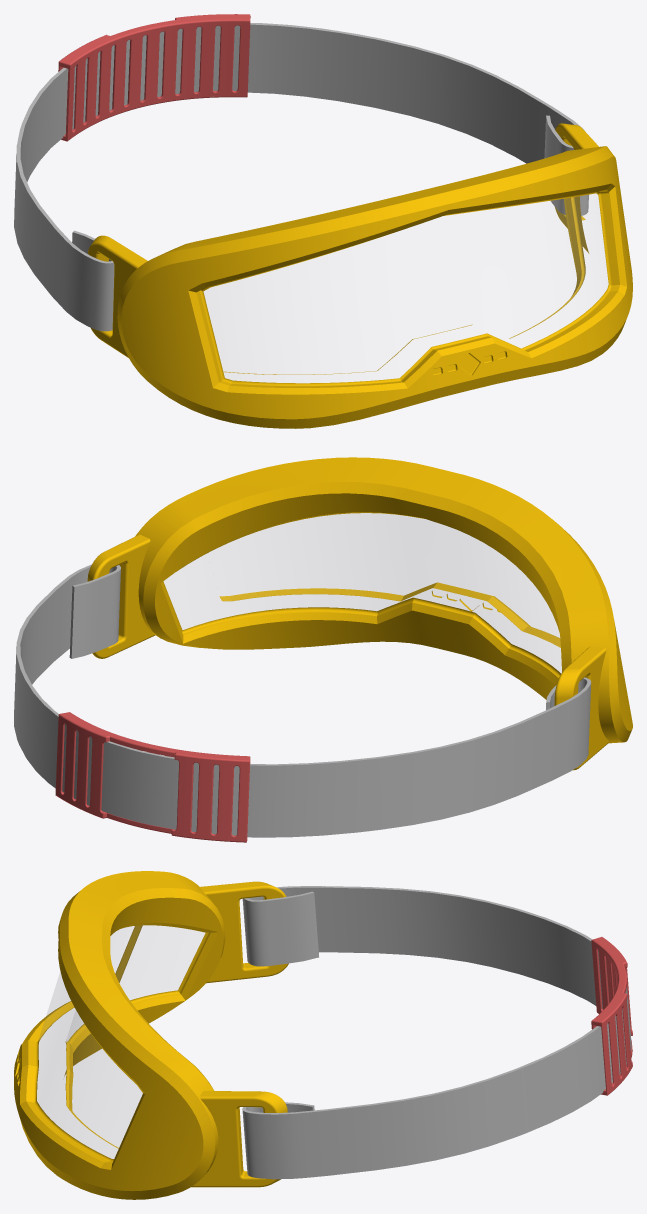
File: Motocross_goggles.glb
The picture shows the model from 3 angles, top to bottom: view 1: azimuth 30°, elevation 25°; view 2: azimuth 150°, elevation 25°; view 3: azimuth 270°, elevation 25°; orthographic projection. The views are drawn at different scales.
Parts seen in each view (by area): view 1: Motocross Goggles.prt.SLDPRT; view 2: Motocross Goggles.prt.SLDPRT; view 3: Motocross Goggles.prt.SLDPRT.
Boxes of the visible parts, x1,y1,x2,y2 form: Motocross Goggles.prt.SLDPRT: [14, 14, 632, 428]; Motocross Goggles.prt.SLDPRT: [14, 457, 632, 842]; Motocross Goggles.prt.SLDPRT: [14, 871, 632, 1199].
Size of the model in its own units: 0.0527 by 0.0202 by 0.0606.
